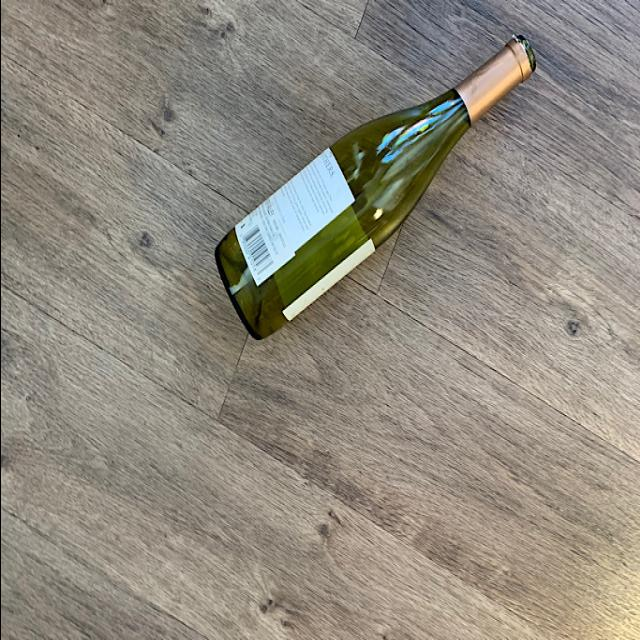Glass Bottle: (211, 32, 537, 344)
